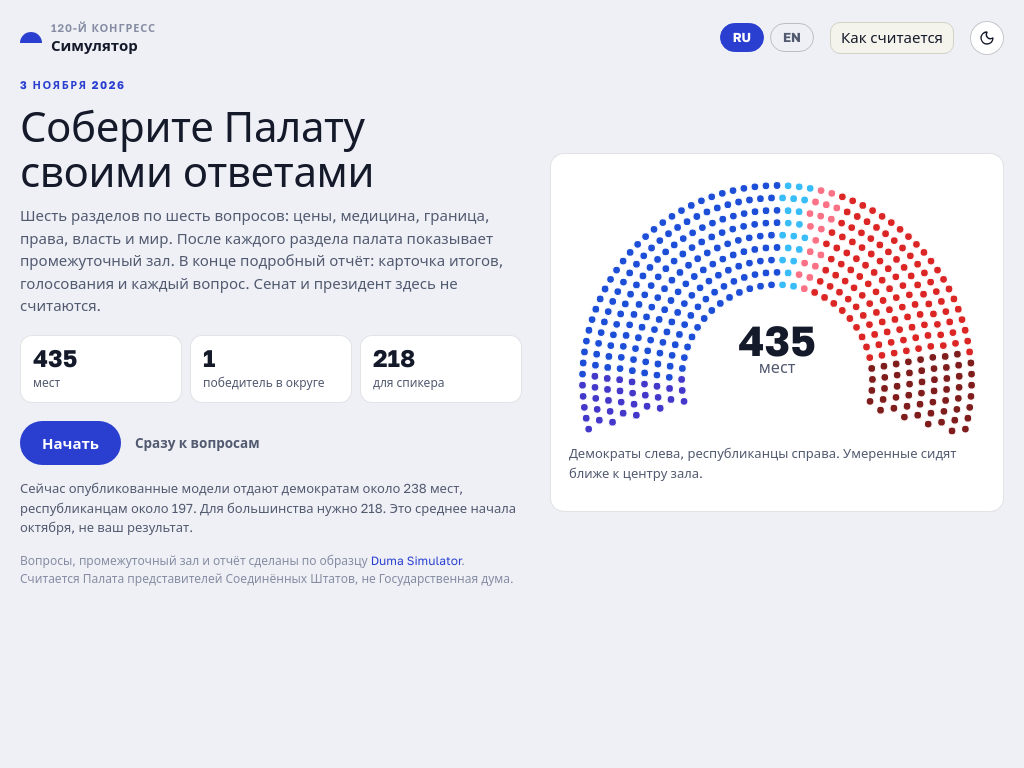
Test: симулятор › переключается на английский
Click the button "EN" at (792, 38), box top-left (770, 23), bottom-right (814, 52)
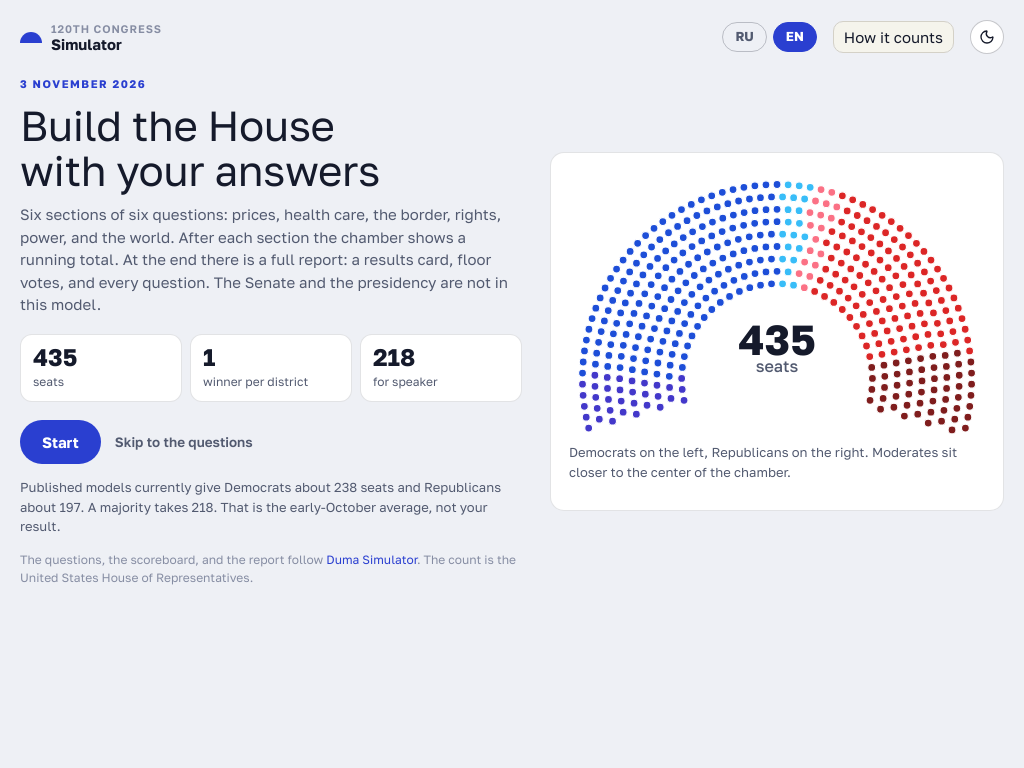
expect the heading "Build the House with your answers" is shown: met, box top-left (20, 100), bottom-right (380, 195)
Click the button "RU" at (745, 37), box top-left (722, 22), bottom-right (767, 52)
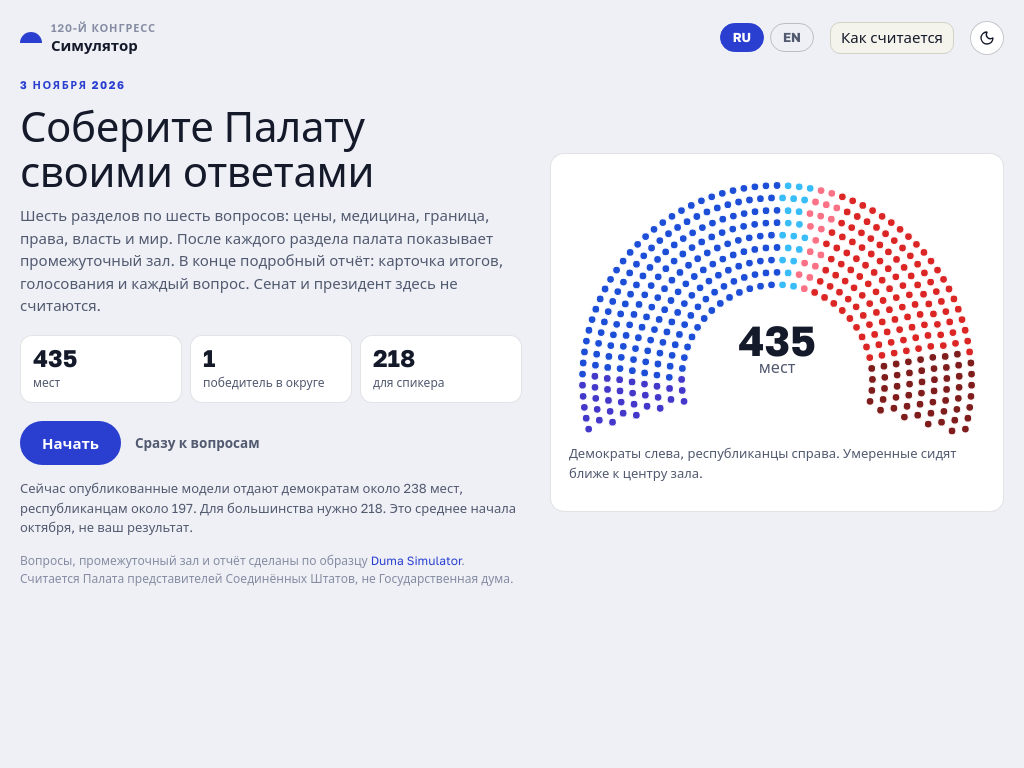
expect the heading "Соберите Палату своими ответами" is shown: met, box top-left (20, 100), bottom-right (374, 196)
